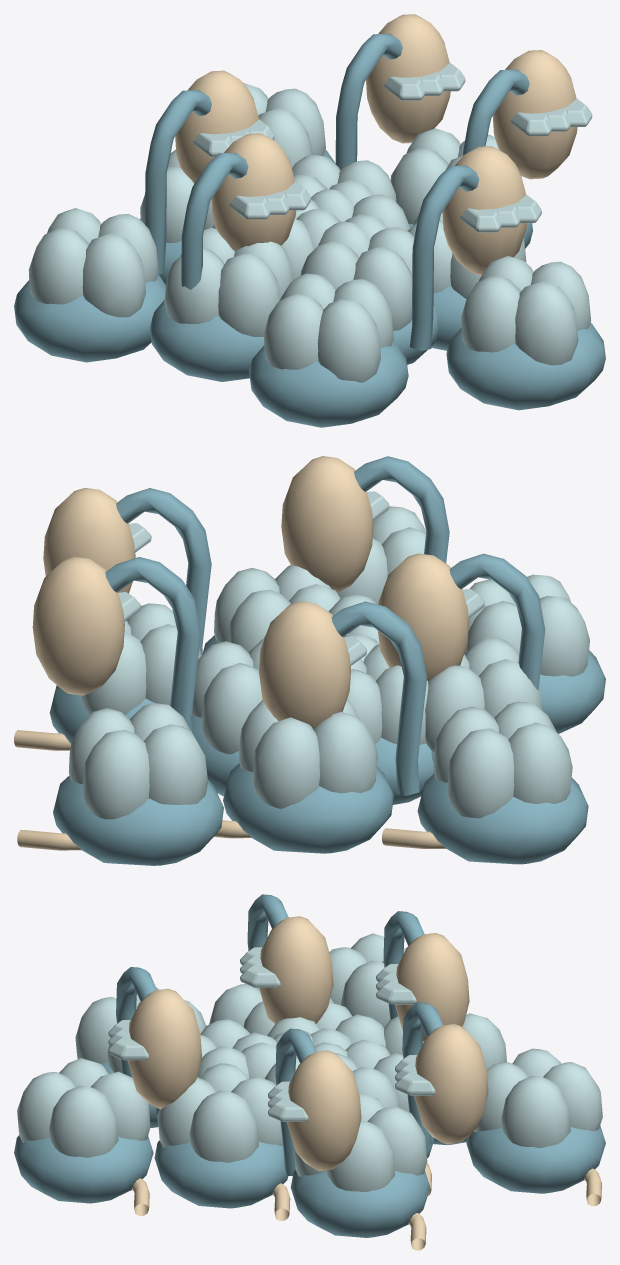
The model's file is bio_oxygen_reef_13_far.glb.
The picture shows the model from 3 angles, top to bottom: view 1: azimuth 30°, elevation 25°; view 2: azimuth 150°, elevation 25°; view 3: azimuth 270°, elevation 25°; orthographic projection. The views are drawn at different scales.
Visible parts, largest first — view 1: Lobed gas sac.028, Lobed gas sac.040, Lobed gas sac.036, Lobed gas sac.016, Photosynthetic cushion.007, Photosynthetic cushion.010, Photosynthetic cushion.009, Lobed gas sac.008, Pendant spore capsule.003, Pendant spore capsule, Pendant spore capsule.002, Pendant spore capsule.004 (+21 smaller); view 2: Lobed gas sac.036, Lobed gas sac.044, Lobed gas sac.024, Pendant spore capsule.003, Pendant spore capsule.002, Pendant spore capsule.001, Photosynthetic cushion.011, Photosynthetic cushion.009, Photosynthetic cushion.006, Pendant spore capsule.004, Lobed gas sac.028, Lobed gas sac.016 (+19 smaller); view 3: Lobed gas sac.040, Lobed gas sac.044, Lobed gas sac.020, Pendant spore capsule.003, Pendant spore capsule, Pendant spore capsule.002, Photosynthetic cushion.010, Photosynthetic cushion.008, Photosynthetic cushion.011, Lobed gas sac.032, Photosynthetic cushion.005, Pendant spore capsule.004 (+23 smaller).
Part boxes in pixels (x1,y1,x2,y2): Lobed gas sac.028: [264, 273, 393, 382]; Lobed gas sac.040: [461, 256, 590, 365]; Lobed gas sac.036: [28, 208, 158, 317]; Lobed gas sac.016: [164, 227, 293, 336]; Photosynthetic cushion.007: [249, 340, 408, 427]; Photosynthetic cushion.010: [446, 323, 605, 410]; Photosynthetic cushion.009: [14, 275, 165, 362]; Lobed gas sac.008: [300, 221, 414, 330]; Pendant spore capsule.003: [366, 14, 450, 143]; Pendant spore capsule: [492, 50, 577, 179]; Pendant spore capsule.002: [442, 146, 526, 275]; Pendant spore capsule.004: [211, 133, 296, 251]; Lobed gas sac.036: [433, 701, 572, 818]; Lobed gas sac.044: [69, 703, 207, 819]; Lobed gas sac.024: [239, 698, 377, 808]; Pendant spore capsule.003: [32, 556, 124, 695]; Pendant spore capsule.002: [281, 456, 373, 592]; Pendant spore capsule.001: [259, 601, 350, 729]; Photosynthetic cushion.011: [53, 775, 223, 865]; Photosynthetic cushion.009: [417, 774, 588, 864]; Photosynthetic cushion.006: [223, 763, 393, 853]; Pendant spore capsule.004: [377, 553, 469, 681]; Lobed gas sac.028: [464, 574, 589, 676]; Lobed gas sac.016: [425, 637, 542, 751]; Lobed gas sac.040: [17, 1058, 150, 1157]; Lobed gas sac.044: [474, 1048, 602, 1147]; Lobed gas sac.020: [157, 1063, 283, 1162]; Pendant spore capsule.003: [414, 1024, 488, 1144]; Pendant spore capsule: [287, 1050, 361, 1170]; Pendant spore capsule.002: [127, 988, 201, 1109]; Photosynthetic cushion.010: [14, 1135, 153, 1203]; Photosynthetic cushion.008: [290, 1170, 430, 1237]; Photosynthetic cushion.011: [466, 1125, 605, 1193]; Lobed gas sac.032: [294, 1093, 427, 1191]; Photosynthetic cushion.005: [154, 1140, 288, 1208]; Pendant spore capsule.004: [259, 916, 333, 1023].
Size of the model in its own units: 1.92 by 0.7758 by 2.03.
